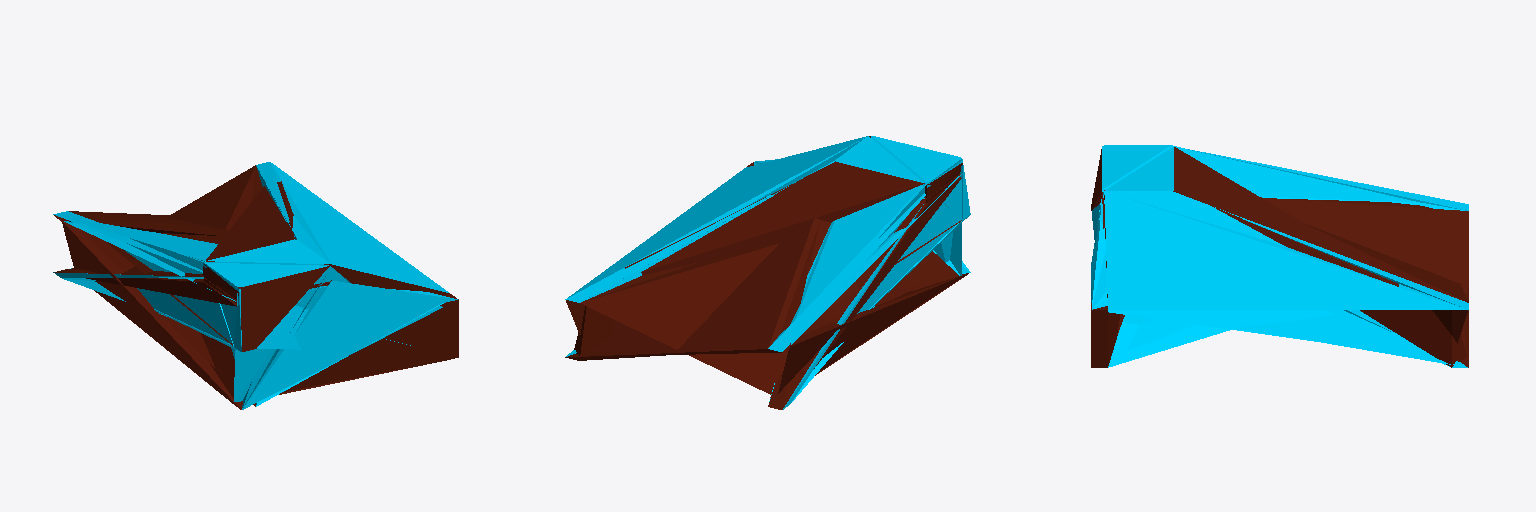
File: bed3.obj
The picture shows the model from 3 angles: view 1: azimuth 30°, elevation 25°; view 2: azimuth 150°, elevation 25°; view 3: azimuth 270°, elevation 25°; orthographic projection.
Parts seen in each view (by area): view 1: Box002, Box001; view 2: Box001, Box002; view 3: Box002, Box001, Box005.
Part boxes in pixels (x1,y1,x2,y2): Box002: (53, 162, 457, 409); Box001: (54, 165, 458, 409); Box001: (565, 136, 968, 409); Box002: (565, 136, 970, 409); Box002: (1091, 145, 1468, 367); Box001: (1091, 147, 1468, 367); Box005: (1091, 304, 1107, 367).
Bounding box in the file's own units: 290671 × 151011 × 437459.